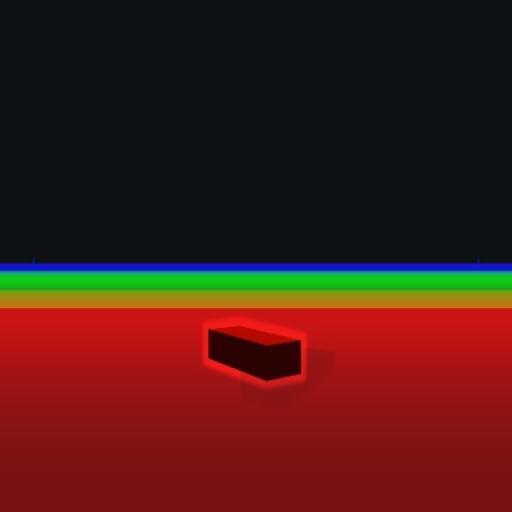debris_container: (204, 321, 304, 385)
